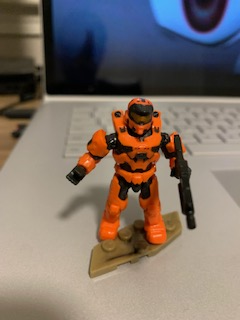spartan: (64, 93, 186, 252)
